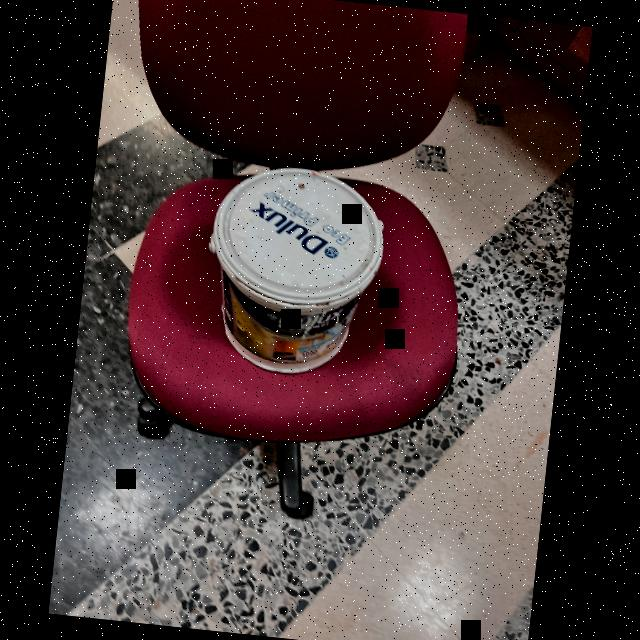paint_bucket: (172, 159, 400, 387)
